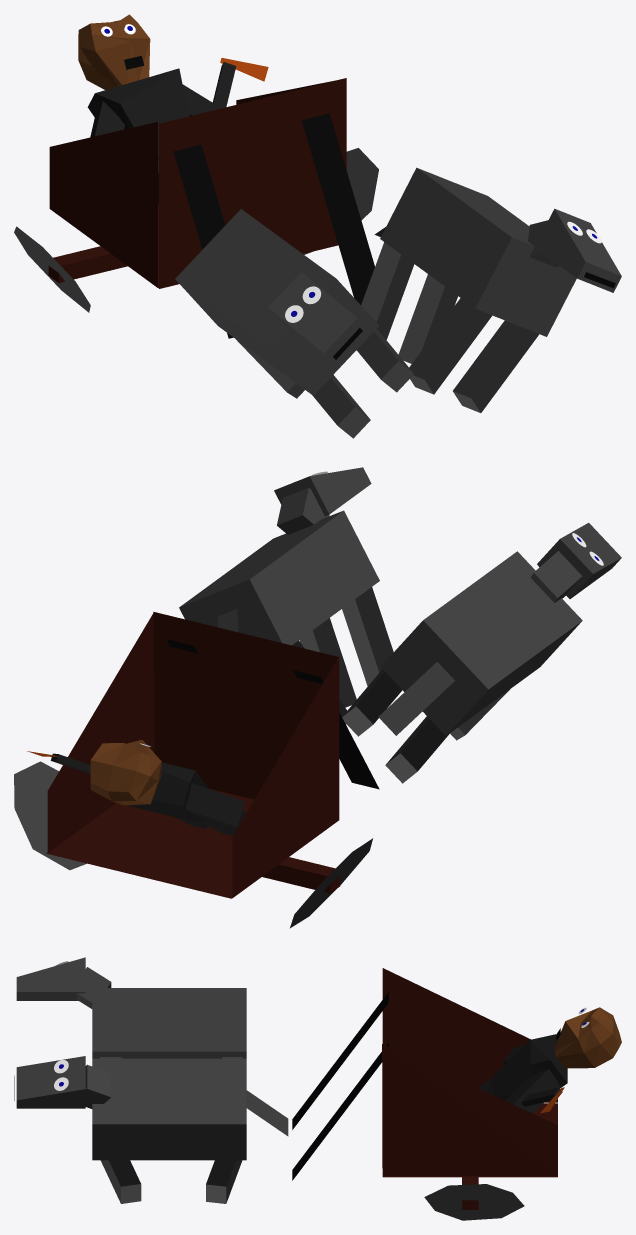
Rendered from lightchariot1d.obj.
The picture shows the model from 3 angles, top to bottom: view 1: azimuth 30°, elevation 25°; view 2: azimuth 150°, elevation 25°; view 3: azimuth 270°, elevation 25°; orthographic projection. The views are drawn at different scales.
Parts seen in each view (by area): view 1: Plane.005_Plane.006, Cube.006_Cube.009, Cube.015_Cube.017, Plane.003, Plane.013_Plane.014, Cube, Cube.021_Cube.023, Cube.001, Cube.014_Cube.016, Cube.011_Cube.013, Cube.012_Cube.014, Plane.012_Plane.013 (+10 smaller); view 2: Plane.005_Plane.006, Cube.015_Cube.017, Cube.006_Cube.009, Plane.003, Plane.002, Plane.004, Cube, Plane.006_Plane.007, Cube.012_Cube.014, Cube.021_Cube.023, Cube.014_Cube.016, Plane.010_Plane.011 (+10 smaller); view 3: Plane.004, Cube.006_Cube.009, Cube.015_Cube.017, Plane.003, Cube.014_Cube.016, Cube, Plane.006_Plane.007, Cube.001, Cube.021_Cube.023, Cube.011_Cube.013, Plane.012_Plane.013, Cube.010_Cube.012 (+7 smaller).
Part boxes in pixels (box(x1,y1,x2,y2)): Plane.005_Plane.006: box(159, 78, 346, 288); Cube.006_Cube.009: box(380, 167, 576, 336); Cube.015_Cube.017: box(175, 209, 379, 395); Plane.003: box(49, 122, 157, 287); Plane.013_Plane.014: box(301, 113, 374, 304); Cube: box(78, 14, 150, 89); Cube.021_Cube.023: box(268, 272, 366, 363); Cube.001: box(87, 68, 189, 158); Cube.014_Cube.016: box(534, 208, 621, 292); Cube.011_Cube.013: box(453, 320, 539, 412); Cube.012_Cube.014: box(409, 298, 492, 394); Plane.012_Plane.013: box(173, 144, 233, 338); Plane.005_Plane.006: box(153, 611, 338, 799); Cube.015_Cube.017: box(381, 551, 582, 735); Cube.006_Cube.009: box(179, 510, 379, 645); Plane.003: box(232, 656, 339, 898); Plane.002: box(46, 788, 253, 898); Plane.004: box(47, 612, 154, 852); Cube: box(90, 739, 161, 805); Plane.006_Plane.007: box(14, 761, 86, 870); Cube.012_Cube.014: box(342, 587, 393, 686); Cube.021_Cube.023: box(537, 522, 621, 598); Cube.014_Cube.016: box(274, 467, 371, 516); Plane.010_Plane.011: box(378, 661, 454, 735); Plane.004: box(382, 1044, 557, 1176); Cube.006_Cube.009: box(92, 1058, 246, 1160); Cube.015_Cube.017: box(92, 988, 246, 1058); Plane.003: box(382, 968, 557, 1102); Cube.014_Cube.016: box(16, 1056, 85, 1108); Cube: box(554, 1007, 621, 1068); Plane.006_Plane.007: box(424, 1184, 524, 1220); Cube.001: box(492, 1034, 567, 1100); Cube.021_Cube.023: box(16, 957, 85, 1000); Cube.011_Cube.013: box(100, 1160, 141, 1203); Plane.012_Plane.013: box(292, 992, 388, 1129); Cube.010_Cube.012: box(206, 1160, 242, 1203).
Bounding box in the file's own units: 8.76 × 5.45 × 16.65.
